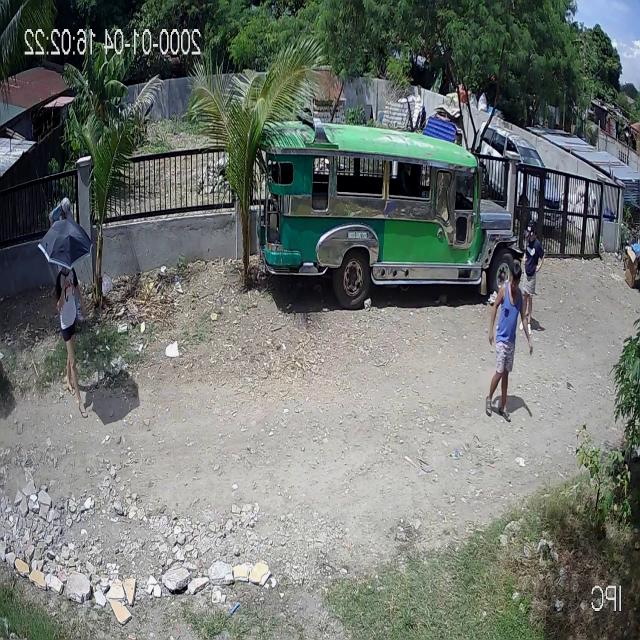standing: (517, 221, 544, 339), (53, 191, 75, 223)
walking: (483, 258, 530, 423), (49, 258, 80, 412)
